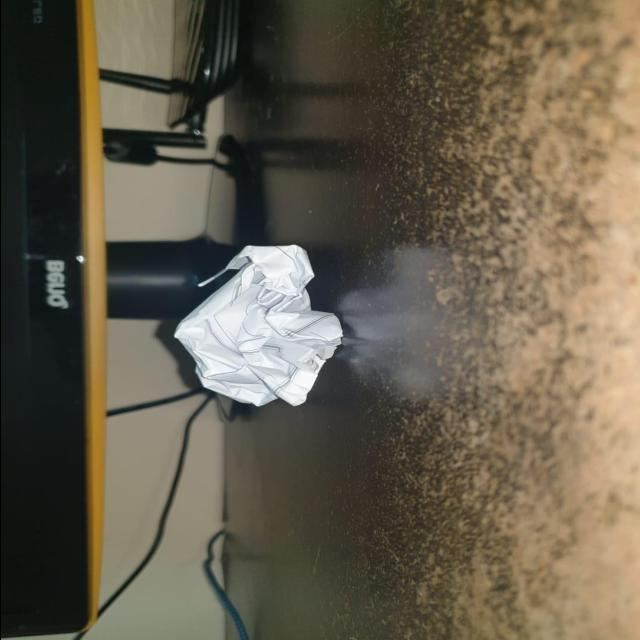kertas: (168, 244, 345, 410)
